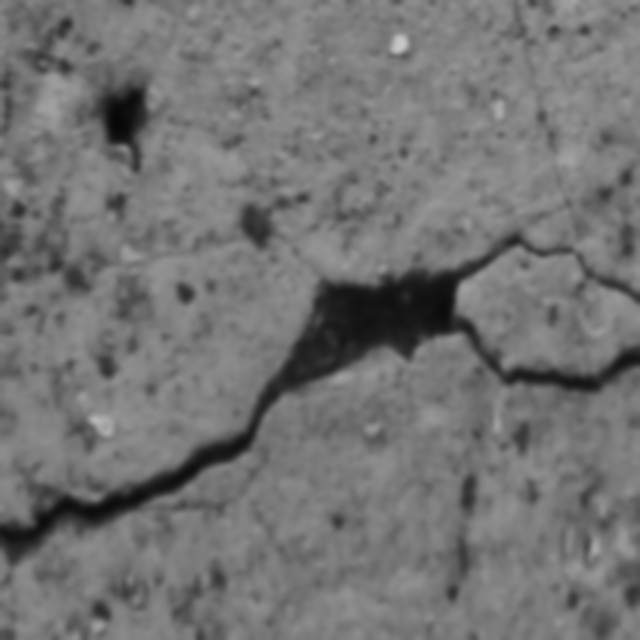SurfaceCrack: (1, 185, 640, 630)
